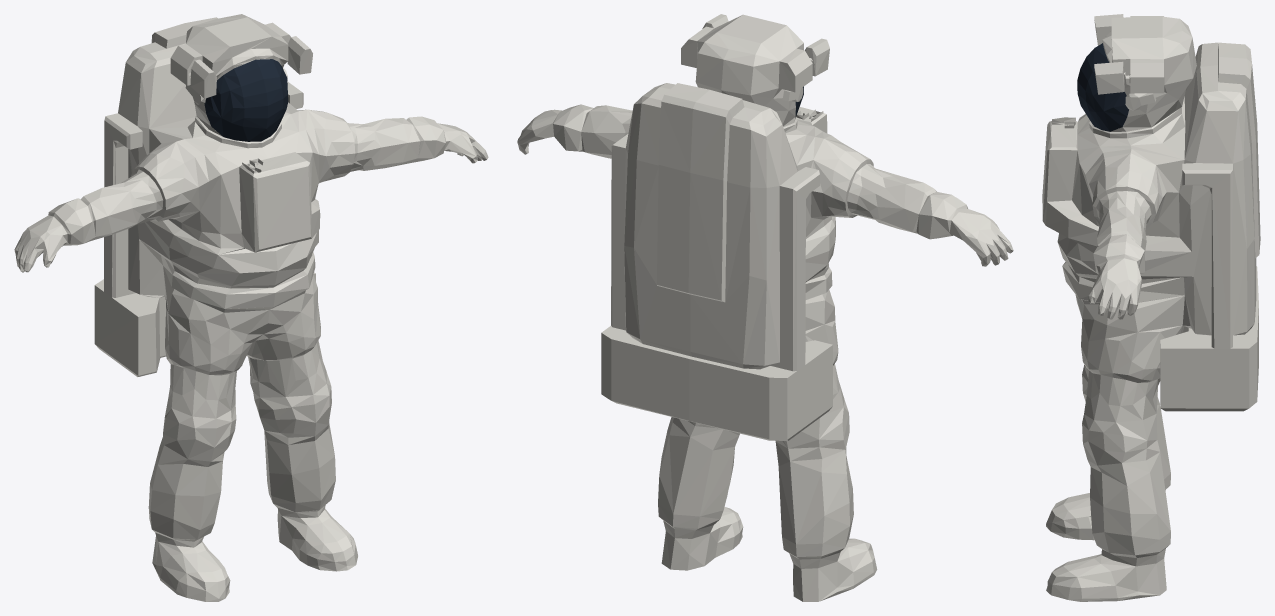
File: astronaut.glb
3 views of the same model, side by side, from view 1: azimuth 30°, elevation 25°; view 2: azimuth 150°, elevation 25°; view 3: azimuth 270°, elevation 25° (orthographic). The views are drawn at different scales.
Visible parts, largest first — view 1: body, visor; view 2: body; view 3: body, visor.
Boxes of the visible parts, x1,y1,x2,y2 form: body: (14, 14, 488, 601); visor: (204, 59, 288, 141); body: (517, 14, 1013, 601); body: (1042, 14, 1260, 601); visor: (1077, 43, 1128, 131).
Bounding box in the file's own units: 1.72 × 1.85 × 0.6865.
